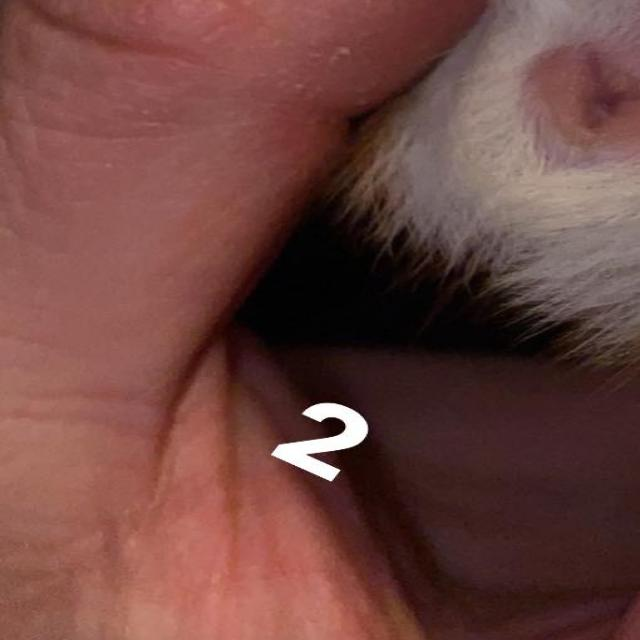fem: (531, 6, 640, 168)
